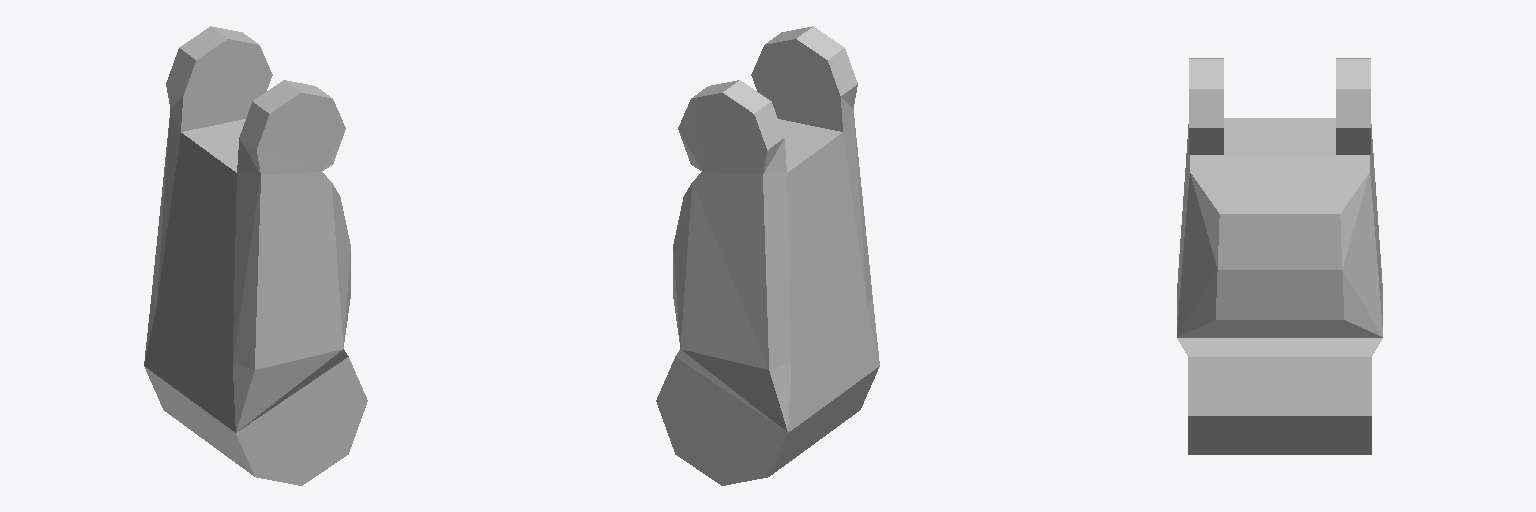
Rendered from middlej1_left.obj.
The picture shows the model from 3 angles: view 1: azimuth 30°, elevation 25°; view 2: azimuth 150°, elevation 25°; view 3: azimuth 270°, elevation 25°; orthographic projection.
Bounding box in the file's own units: 0.019 × 0.0541 × 0.0258.